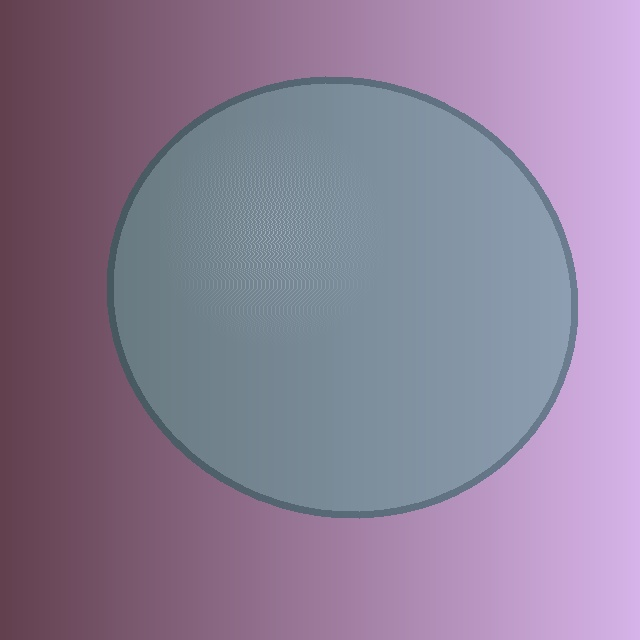lens: (110, 80, 574, 514)
